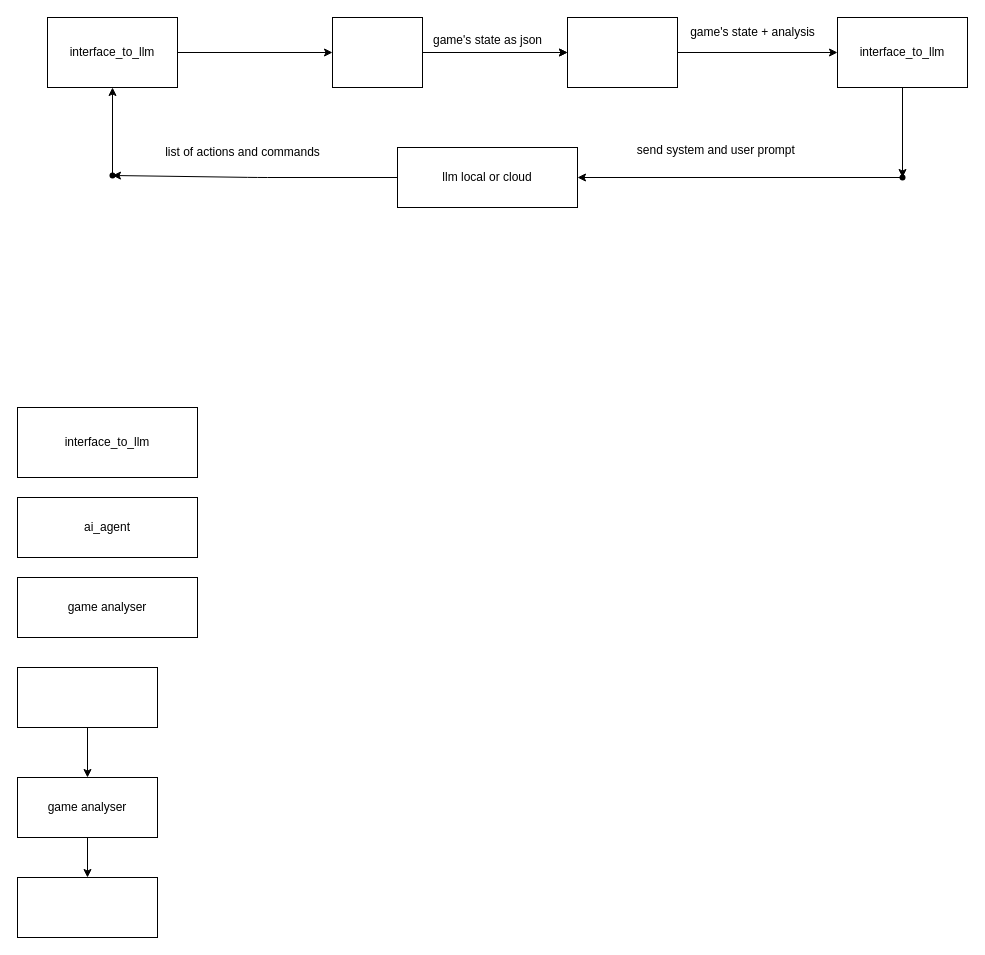
Image size: 985x955. Some labels were removed from this diagram. Each missing label, with the box of its shape:
description of the game: (16, 876, 158, 938)
game_analyser: (566, 16, 678, 88)
RPC server: (332, 16, 422, 88)
state file: (16, 666, 158, 728)
